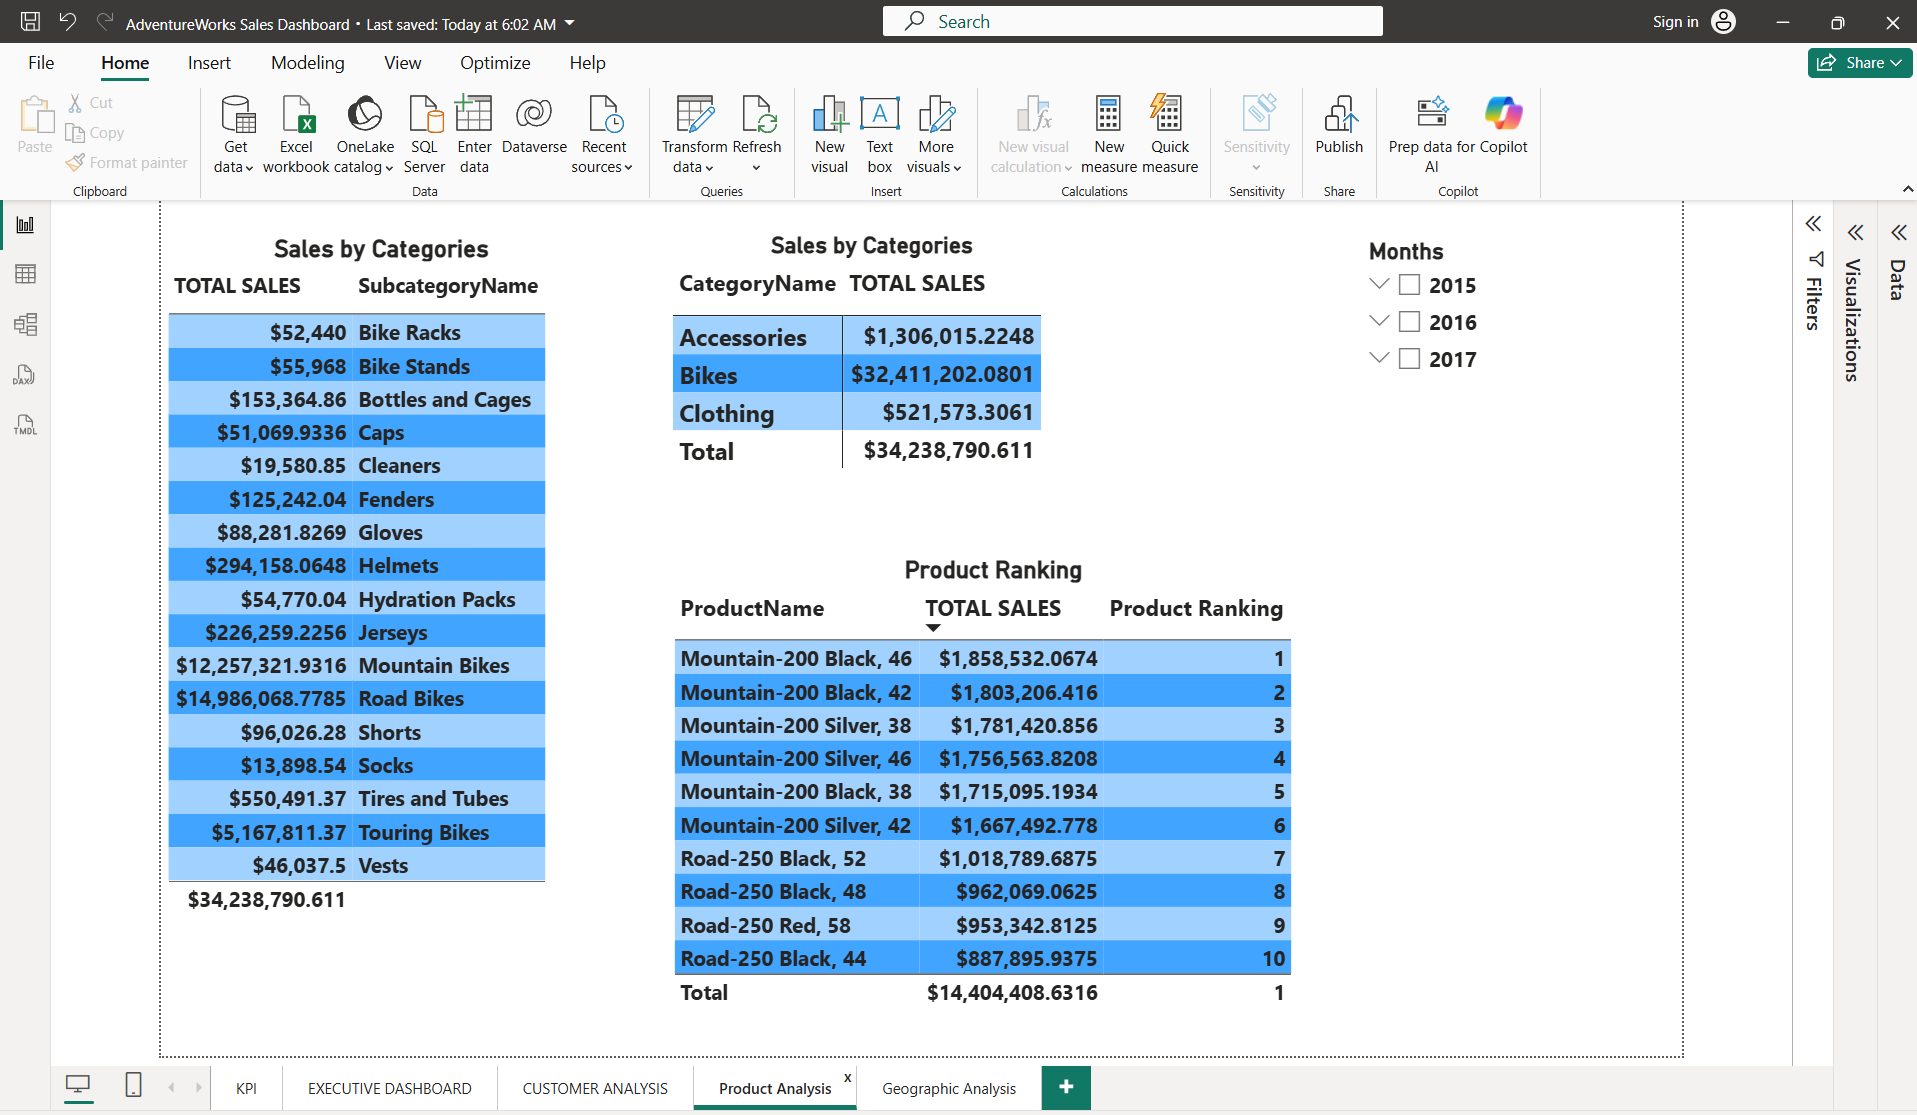

The page's visual inventory and layout, read from the dashboard file:
{"tool":"powerbi","page":{"name":"Product Analysis","canvas":[1280,720],"ordinal":3},"visuals":[{"type":"tableEx","title":"Sales by Categories","fields":{"Values":["SALES.TOTAL SALES","PRODUCT CATOGARIES.SubcategoryName"]},"box":[0,27.9,370.9,691.9],"z":0},{"type":"tableEx","title":"Product Ranking","fields":{"Values":["PRODUCT DETAILS.ProductName","SALES.TOTAL SALES","PRODUCT DETAILS.Product Ranking"]},"box":[425.6,298.8,548.8,391.9],"z":1000},{"type":"slicer","fields":{"Values":["DATE TABLE.YEAR","DATE TABLE.MONTH"]},"box":[1002.9,27.7,277.4,662.8],"z":2000},{"type":"pivotTable","title":"Sales by Categories","fields":{"Rows":["PRODUCT CATOGARIES.CategoryName"],"Values":["SALES.TOTAL SALES"]},"box":[425.4,27.4,344.4,245.6],"z":3000}]}

Visuals, with their boxes on the page's 1280x720 design canvas (x1, y1, x2, y2). These are canvas units, not pixel positions in the 1917x1115 screenshot, which may show the page scaled, cropped or inside an application window:
"Sales by Categories" tableEx: {"x1": 0, "y1": 28, "x2": 371, "y2": 720}
"Product Ranking" tableEx: {"x1": 426, "y1": 299, "x2": 974, "y2": 691}
slicer - DATE TABLE.YEAR x DATE TABLE.MONTH: {"x1": 1003, "y1": 28, "x2": 1280, "y2": 690}
"Sales by Categories" pivotTable: {"x1": 425, "y1": 27, "x2": 770, "y2": 273}
